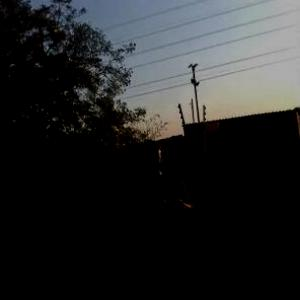follow: (122, 135, 202, 299)
